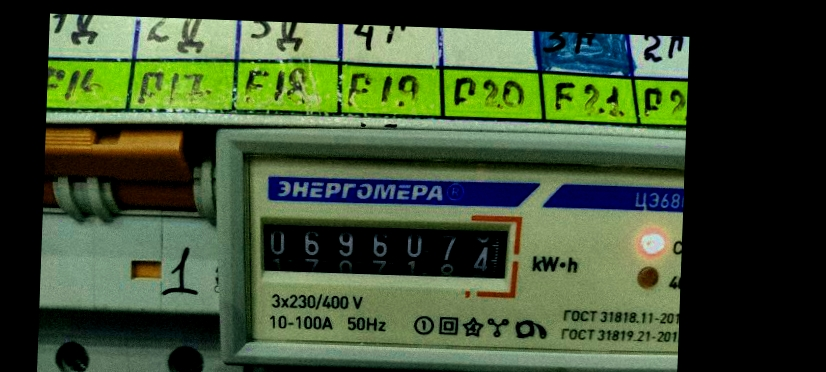0: (267, 225, 287, 255), (403, 229, 423, 257)
4: (470, 244, 489, 272)
6: (370, 228, 389, 257), (301, 228, 320, 255)
7: (438, 231, 458, 261)
9: (335, 229, 354, 258)
screen: (245, 202, 527, 299)
